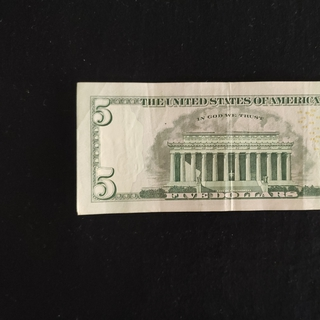5USDBack: (75, 79, 320, 215)
